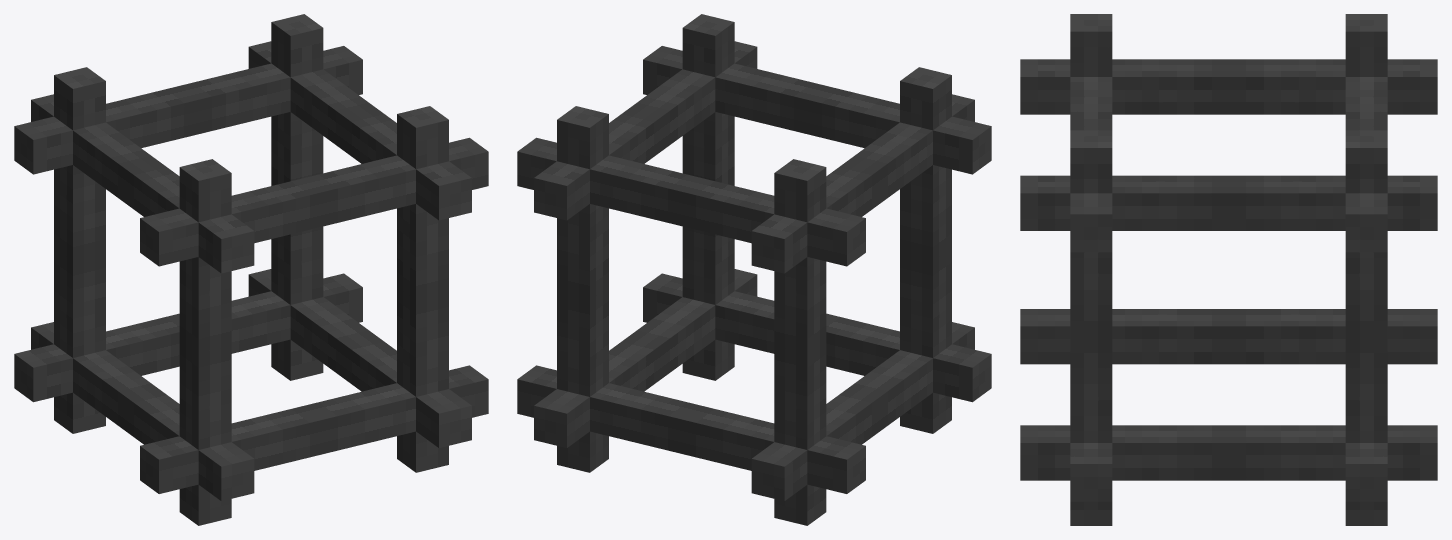
File: support_beam.obj
3 views of the same model, side by side, from view 1: azimuth 30°, elevation 25°; view 2: azimuth 150°, elevation 25°; view 3: azimuth 270°, elevation 25° (orthographic). The views are drawn at different scales.
Parts seen in each view (by area): view 1: Beam_beammdl; view 2: Beam_beammdl; view 3: Beam_beammdl.
Boxes of the visible parts, x1=… form: Beam_beammdl: x1=14, y1=14, x2=488, y2=525; Beam_beammdl: x1=517, y1=14, x2=991, y2=525; Beam_beammdl: x1=1020, y1=14, x2=1437, y2=525.
Bounding box in the file's own units: 1 × 1 × 1.
